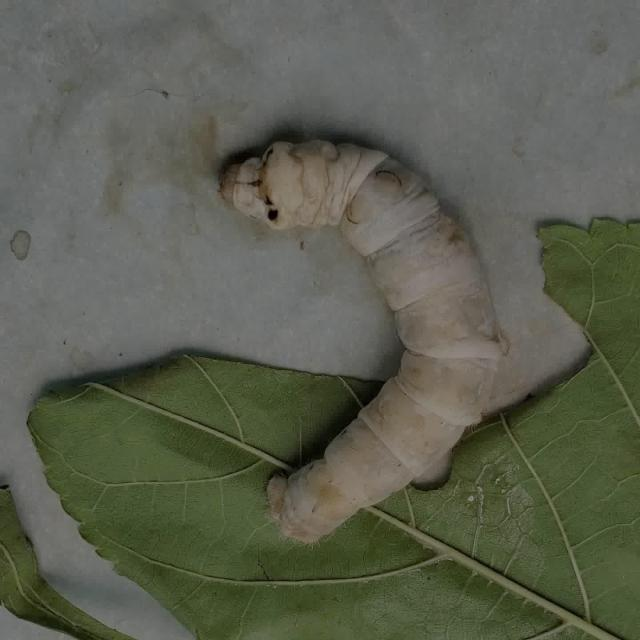Grasserie: (190, 111, 511, 558)
